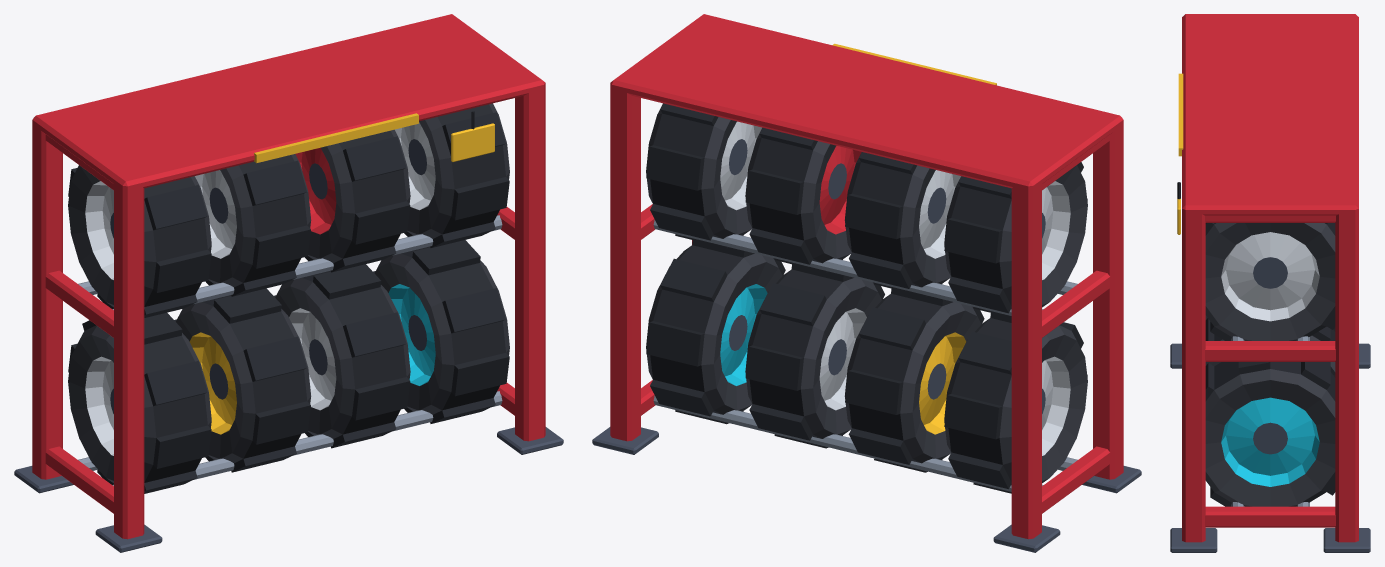
File: TireRack.fbx
3 views of the same model, side by side, from view 1: azimuth 30°, elevation 25°; view 2: azimuth 150°, elevation 25°; view 3: azimuth 270°, elevation 25° (orthographic). The views are drawn at different scales.
Parts seen in each view (by area): view 1: TireRack; view 2: TireRack; view 3: TireRack.
Part boxes in pixels (box(x1,y1,x2,y2)): TireRack: box(14, 14, 563, 552); TireRack: box(592, 14, 1141, 552); TireRack: box(1170, 14, 1370, 552).
Bounding box in the file's own units: 8.2 × 6.4 × 3.4.
1 material, 1 textured.
